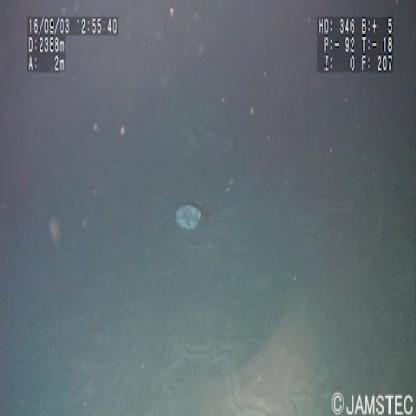Rác: (171, 197, 209, 237)
